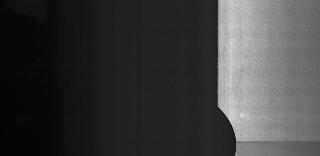welding line: (236, 139, 320, 143)
